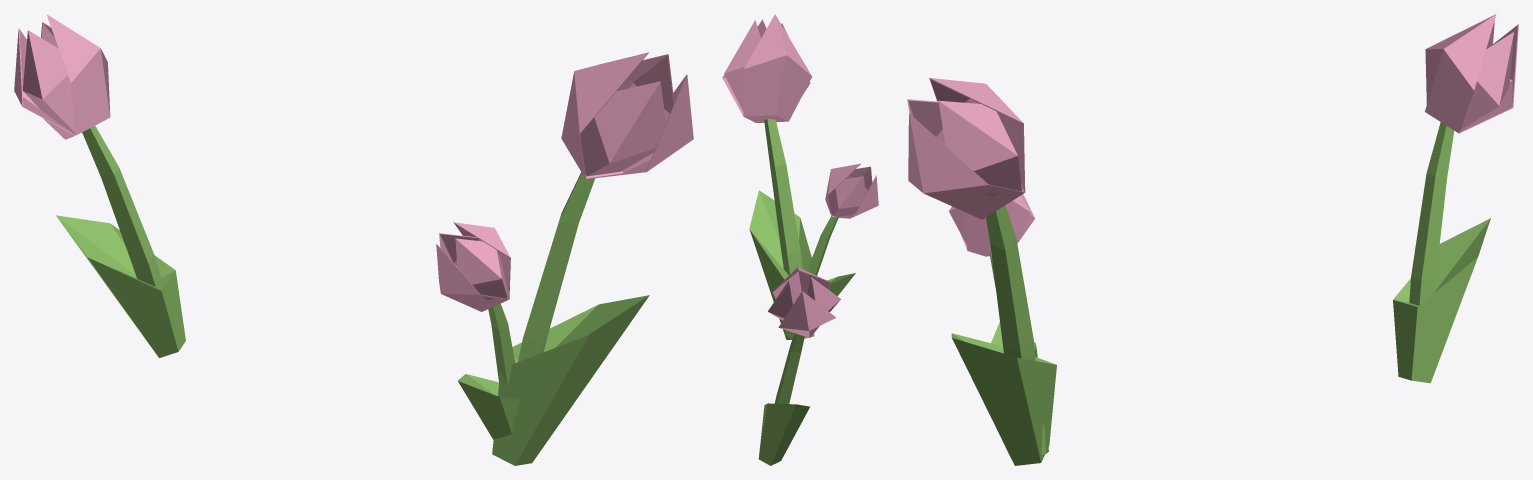
The model's file is FlowerPink04.fbx.
3 views of the same model, side by side, from view 1: azimuth 30°, elevation 25°; view 2: azimuth 150°, elevation 25°; view 3: azimuth 270°, elevation 25° (orthographic). The views are drawn at different scales.
Parts seen in each view (by area): view 1: Circle.507; view 2: Circle.507; view 3: Circle.507.
Boxes of the visible parts, x1=… form: Circle.507: x1=14, y1=14, x2=693, y2=465; Circle.507: x1=722, y1=14, x2=878, y2=465; Circle.507: x1=907, y1=14, x2=1518, y2=465.
Bounding box in the file's own units: 43.75 × 43.66 × 57.07.
